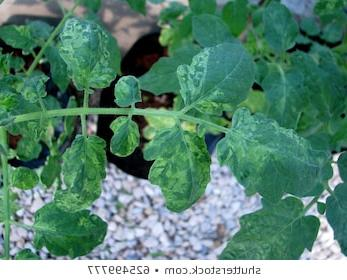Tomato leaf mosaic virus: (217, 110, 335, 204), (176, 37, 258, 119), (142, 124, 214, 213), (59, 12, 126, 101), (32, 199, 108, 256), (51, 135, 107, 211), (109, 116, 142, 163), (115, 75, 145, 110)
